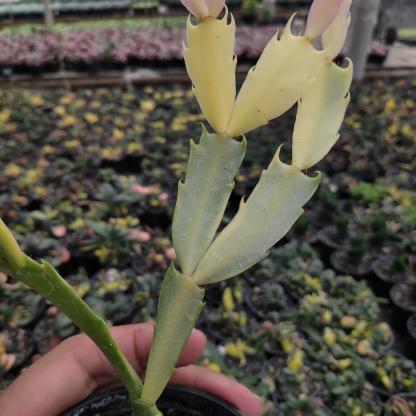Aglonema: (39, 48, 379, 288)
